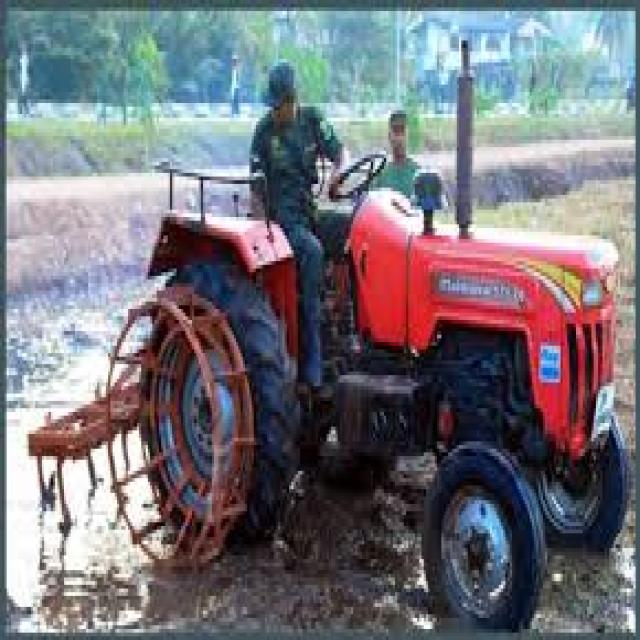person: (249, 63, 342, 486), (375, 110, 415, 195)
tractor: (31, 154, 627, 625)
